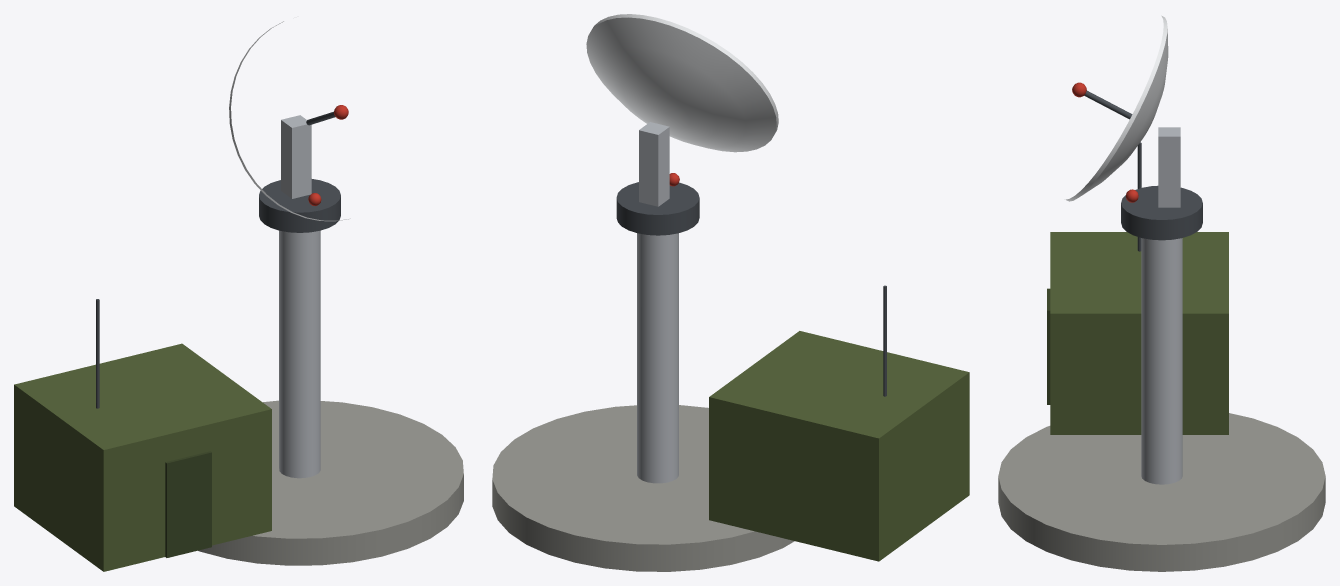
Rendered from radar.glb.
The picture shows the model from 3 angles, left to right: view 1: azimuth 30°, elevation 25°; view 2: azimuth 150°, elevation 25°; view 3: azimuth 270°, elevation 25°; orthographic projection.
Parts seen in each view (by area): view 1: radar; view 2: radar; view 3: radar.
Part boxes in pixels (left/top/right/bottom): radar: left=14, top=21, right=463, bottom=571; radar: left=492, top=14, right=969, bottom=571; radar: left=998, top=15, right=1325, bottom=571.
Bounding box in the file's own units: 6.1 × 7.09 × 4.4.
